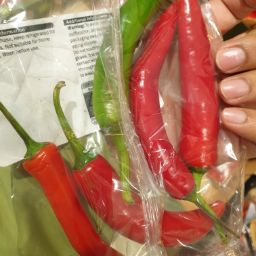Jalapeno pepper: (96, 4, 233, 251), (7, 77, 154, 256)
